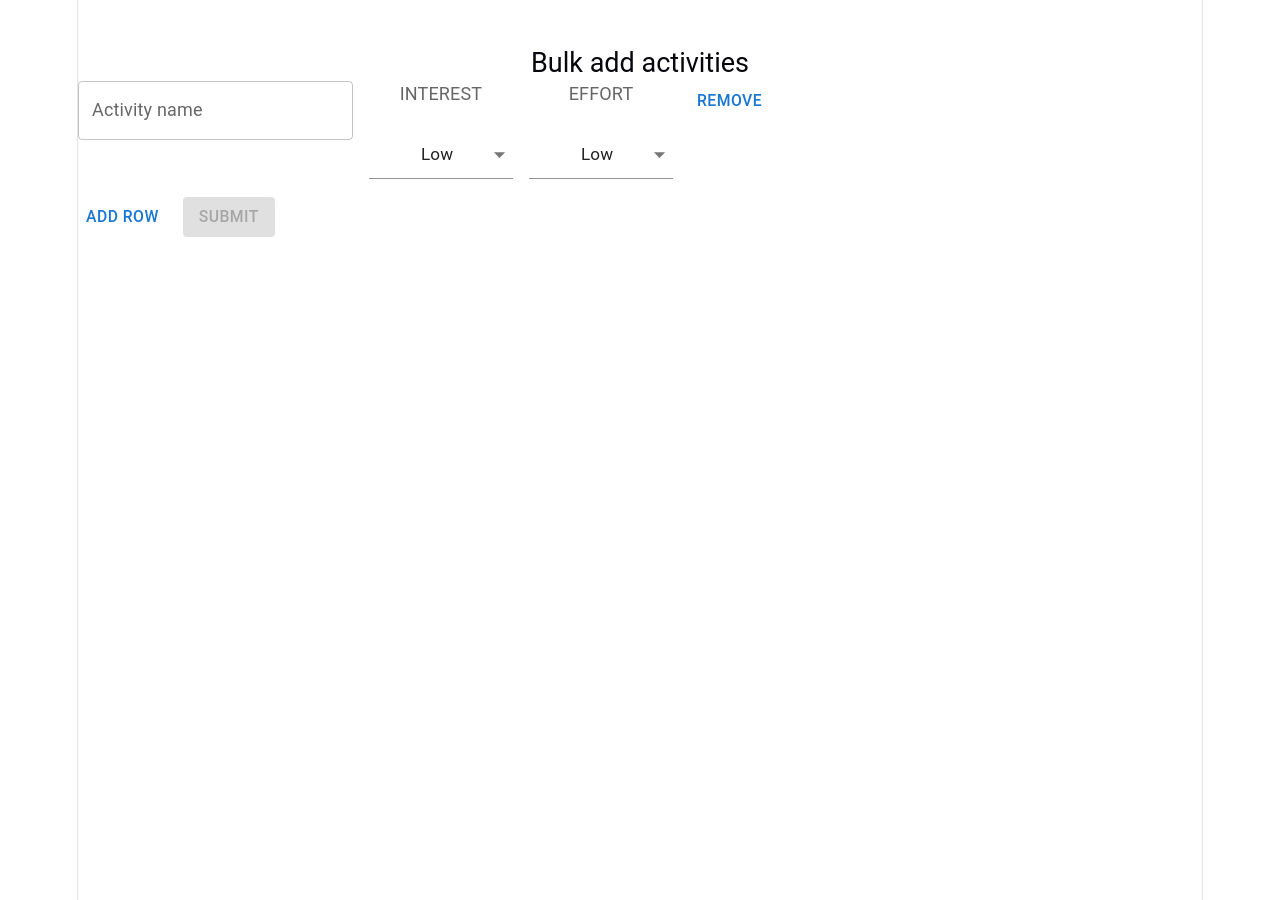
Test: BulkAddForm › removes a row
The width and height of the screenshot is (1280, 900).
Click the button "Add row".
click(122, 217)  # box top-left (78, 197), bottom-right (167, 237)
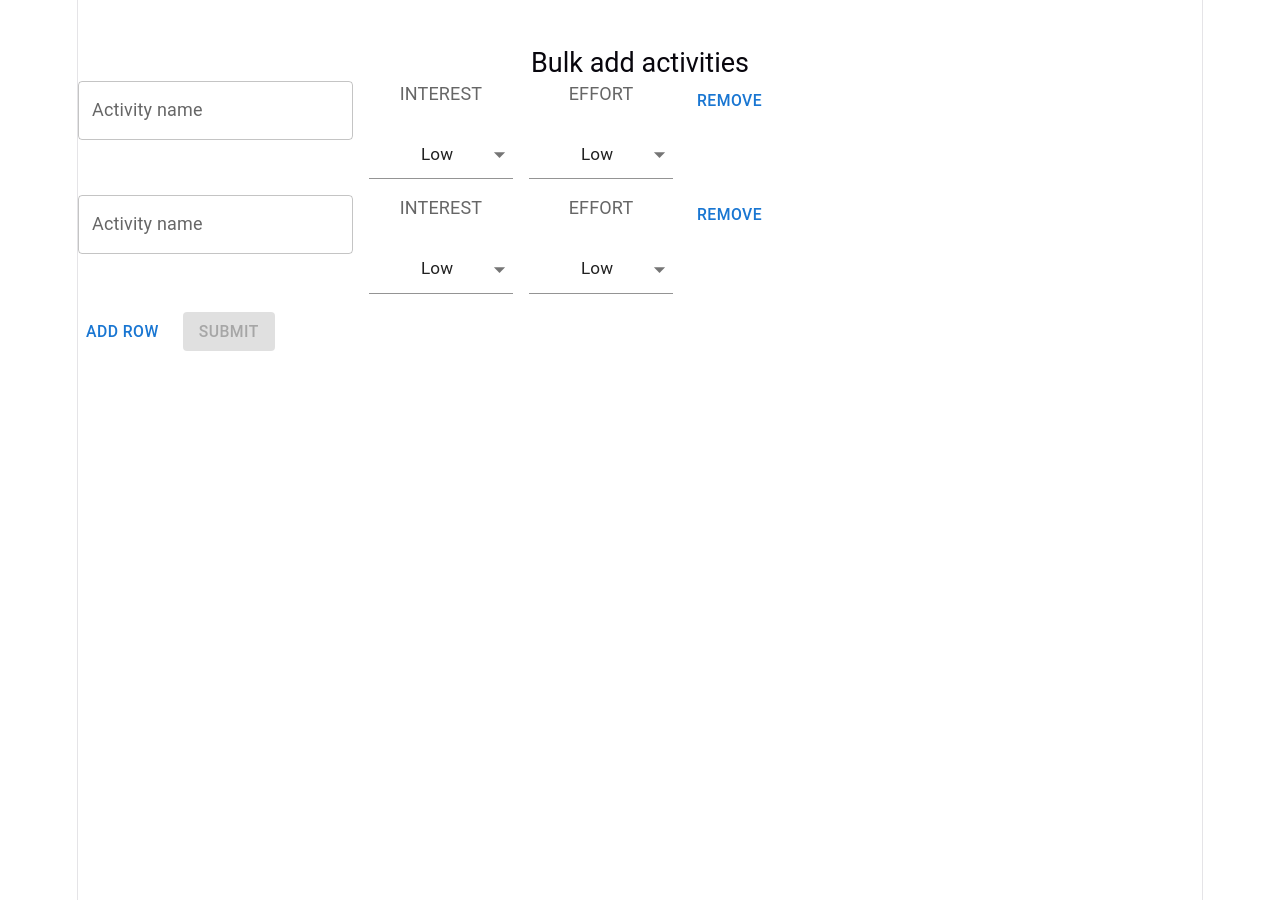
Type "Alpha" into the 1st field labelled "Activity name".
click(216, 110); type("Alpha")  # box top-left (78, 81), bottom-right (353, 140)
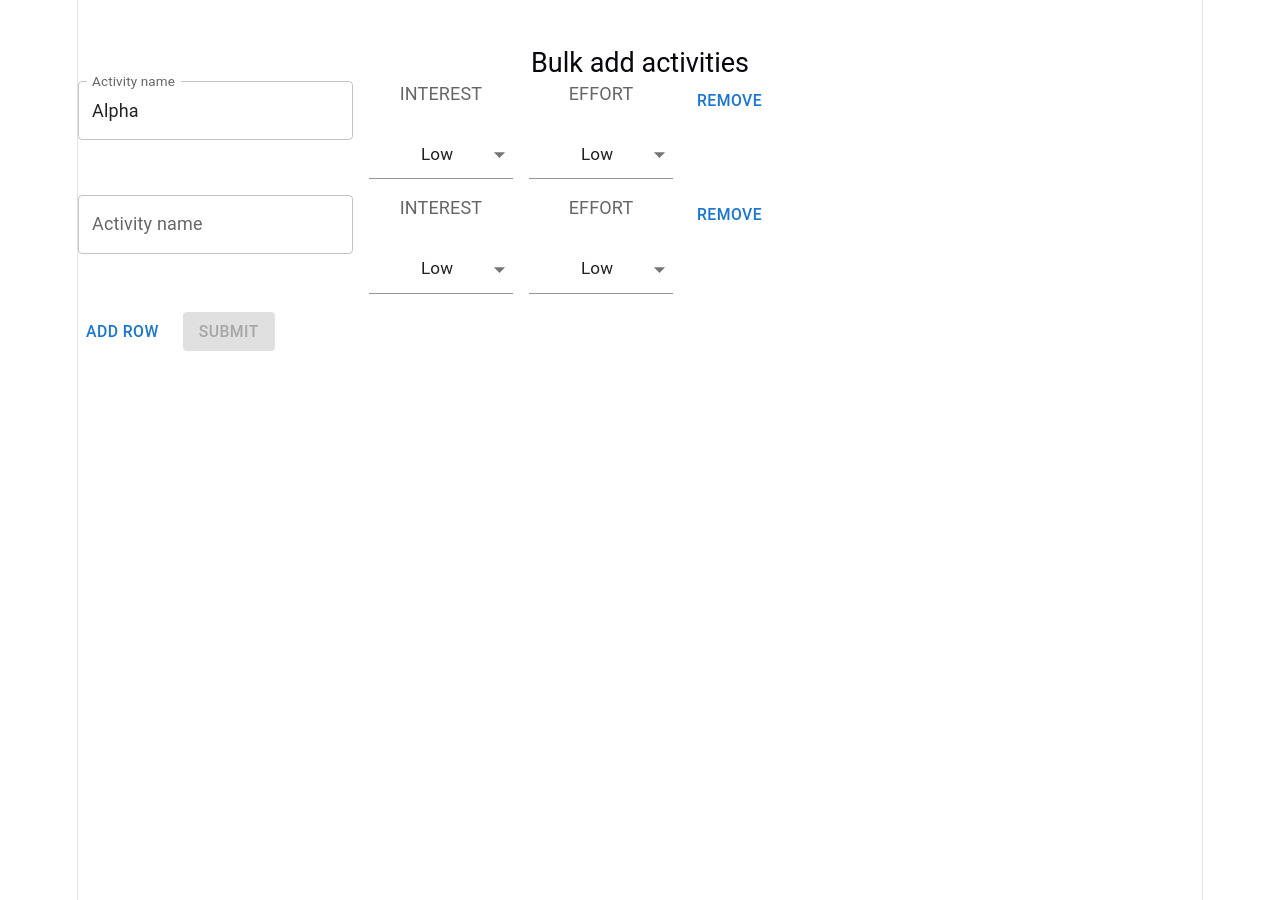
Type "Bravo" into the 2nd field labelled "Activity name".
click(216, 225); type("Bravo")  # box top-left (78, 195), bottom-right (353, 254)
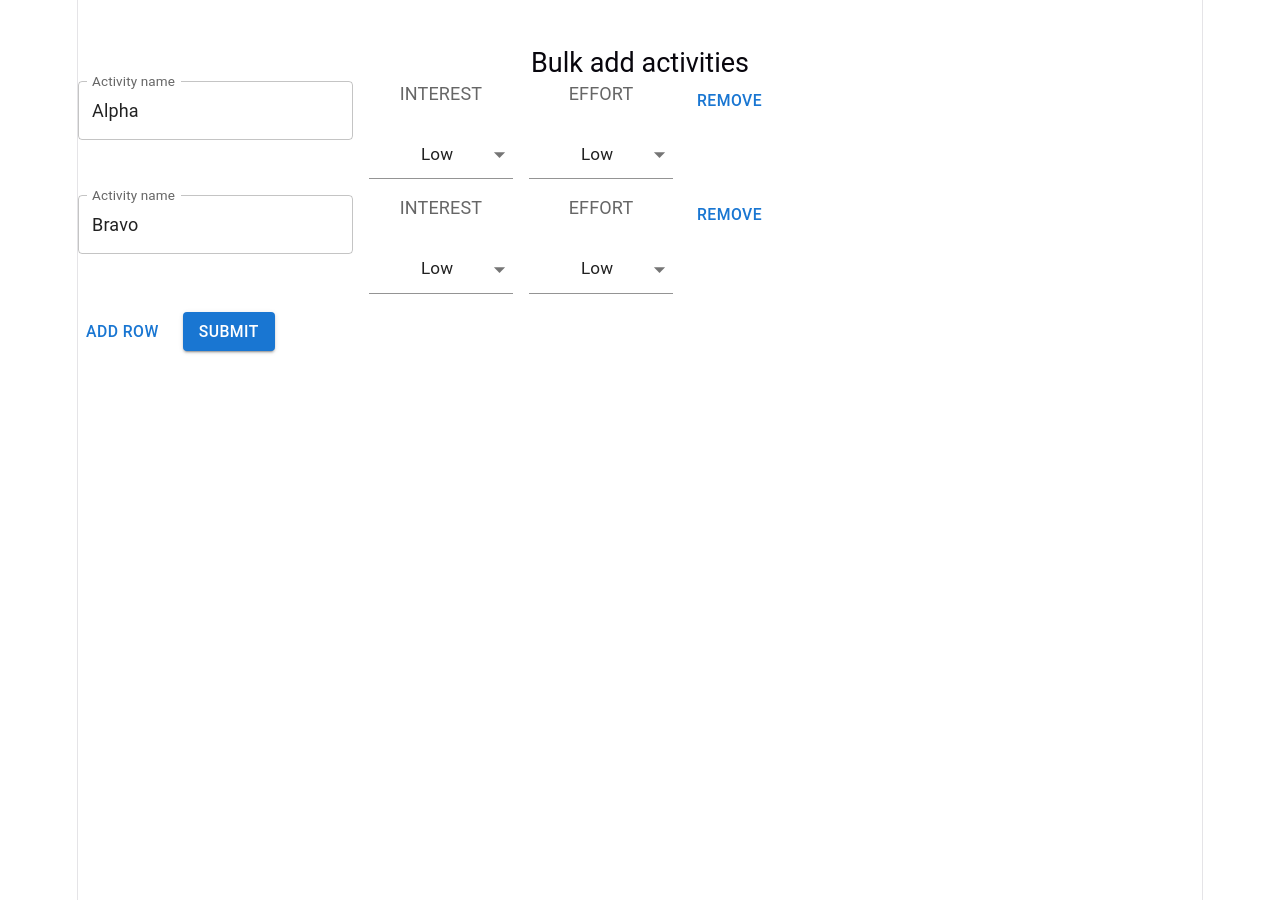
Click the button with aria-label "Remove activity 1".
click(730, 101)  # box top-left (689, 81), bottom-right (770, 121)
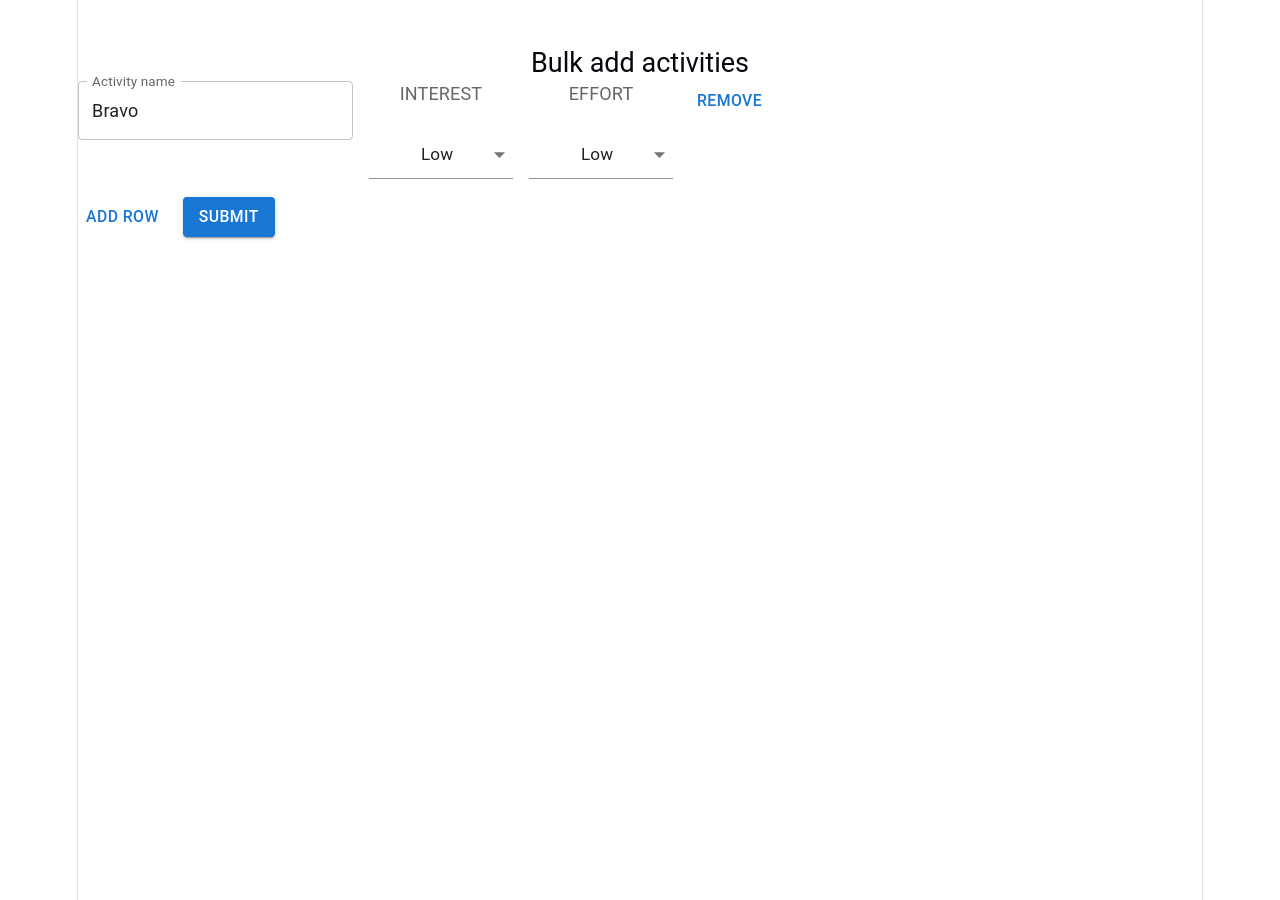
Check: the number of fields labelled "Activity name" is 1, box top-left (78, 81), bottom-right (353, 140)
Check: the field labelled "Activity name" holds "Bravo", box top-left (78, 81), bottom-right (353, 140)
